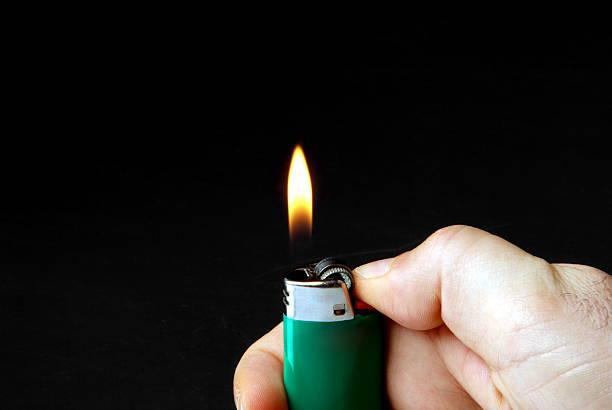Fire: (285, 145, 322, 260)
